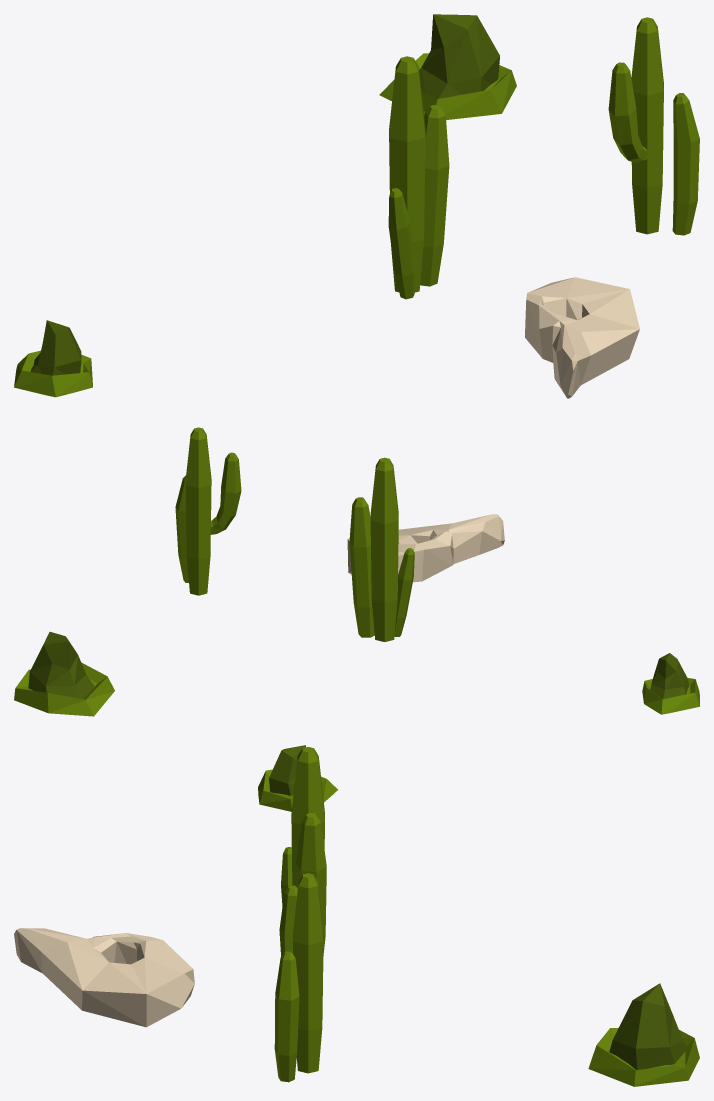
File: desert_assets_5.glb
3 renders of one model, top to bottom at view 1: azimuth 30°, elevation 25°; view 2: azimuth 150°, elevation 25°; view 3: azimuth 270°, elevation 25°, orthographic. The views are drawn at different scales.
Parts seen in each view (by area): view 1: Cylinder1141_Color_0, Cylinder1145_Color_0, Creature_73_Color_0, Cylinder1121_Color_0, Cylinder1140_Color_0; view 2: Cylinder1141_Color_0, Cylinder1145_Color_0, Cylinder1121_Color_0, Creature_73_Color_0, Cylinder1140_Color_0; view 3: Creature_73_Color_0, Cylinder1145_Color_0, Cylinder1121_Color_0, Cylinder1141_Color_0, Cylinder1140_Color_0.
Part boxes in pixels (bbox=[...]): Cylinder1141_Color_0: bbox=[388, 56, 449, 299]; Cylinder1145_Color_0: bbox=[608, 17, 699, 235]; Creature_73_Color_0: bbox=[525, 277, 639, 398]; Cylinder1121_Color_0: bbox=[379, 14, 516, 119]; Cylinder1140_Color_0: bbox=[14, 320, 92, 397]; Cylinder1141_Color_0: bbox=[349, 457, 414, 641]; Cylinder1145_Color_0: bbox=[175, 427, 241, 595]; Cylinder1121_Color_0: bbox=[14, 632, 114, 716]; Creature_73_Color_0: bbox=[347, 514, 504, 582]; Cylinder1140_Color_0: bbox=[642, 653, 699, 714]; Creature_73_Color_0: bbox=[14, 928, 194, 1027]; Cylinder1145_Color_0: bbox=[274, 873, 323, 1082]; Cylinder1121_Color_0: bbox=[588, 983, 699, 1086]; Cylinder1141_Color_0: bbox=[281, 747, 326, 955]; Cylinder1140_Color_0: bbox=[258, 745, 337, 811].
Bounding box in the file's own units: 2.12 × 0.7008 × 1.98.
Materials: 1 (1 with a texture image).
